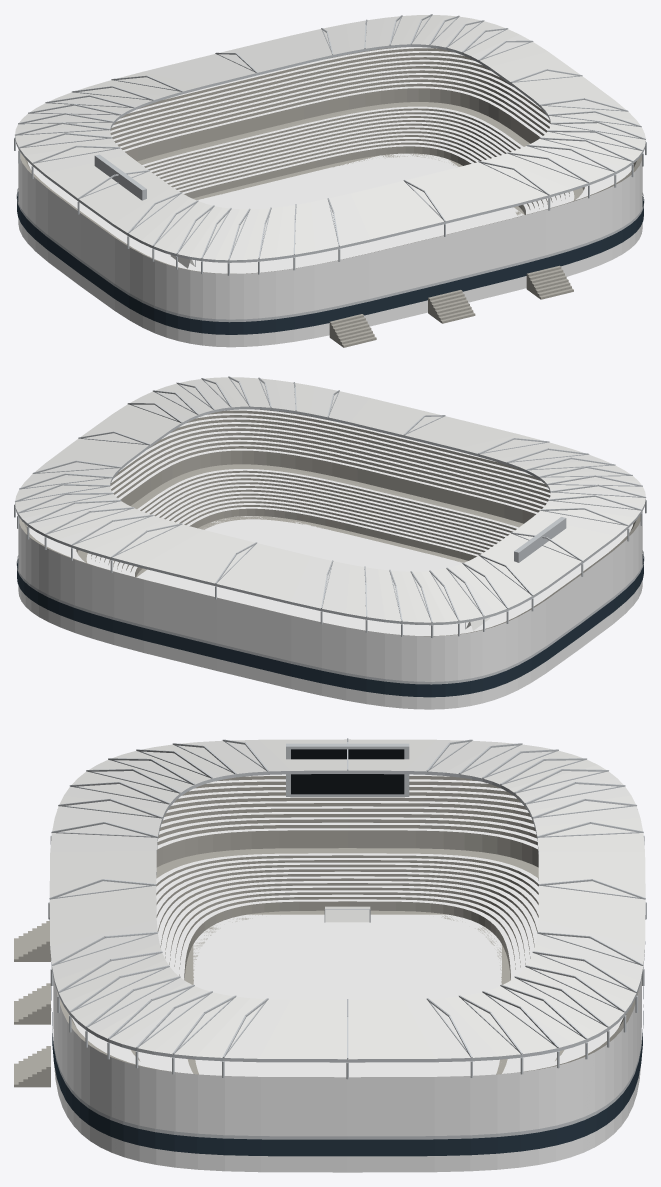
Rendered from stadium.glb.
3 views of the same model, one above another, from view 1: azimuth 30°, elevation 25°; view 2: azimuth 150°, elevation 25°; view 3: azimuth 270°, elevation 25° (orthographic). The views are drawn at different scales.
Visible parts, largest first — view 1: std_d_pitch.001; view 2: std_d_pitch.001; view 3: std_d_pitch.001.
Boxes of the visible parts, x1,y1,x2,y2 form: std_d_pitch.001: (14,14,646,347); std_d_pitch.001: (14,376,646,709); std_d_pitch.001: (14,738,646,1172).
Bounding box in the file's own units: 123 × 24.34 × 103.
